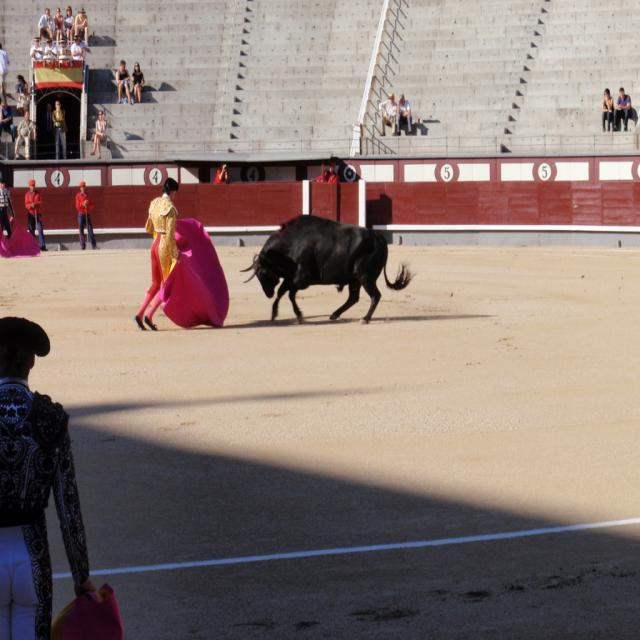Bull: (237, 214, 416, 325)
